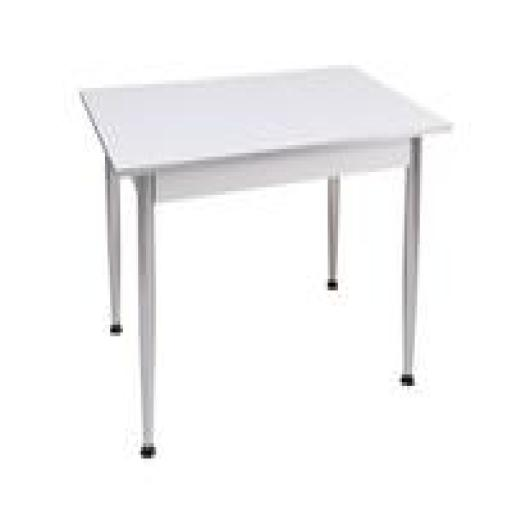table: (78, 63, 447, 453)
